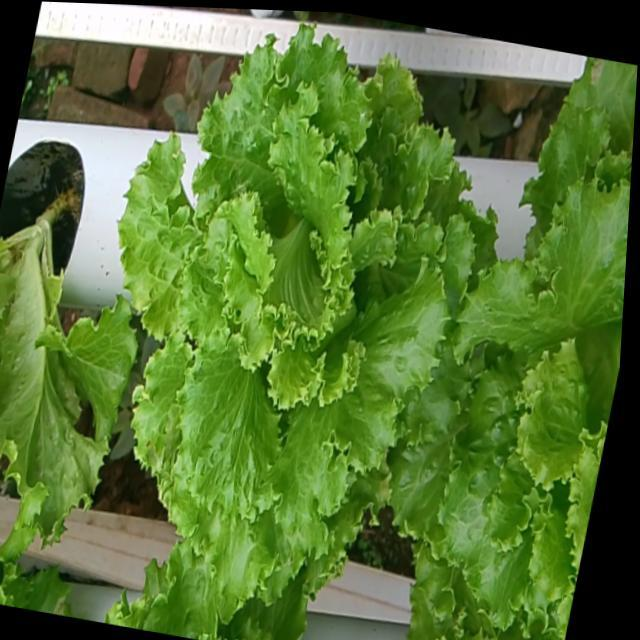Mature: (110, 23, 471, 601), (385, 162, 631, 623)
